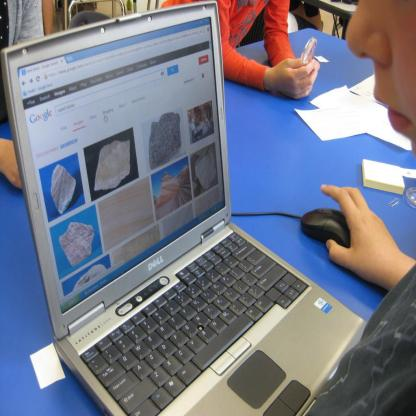board: (0, 1, 367, 416)
